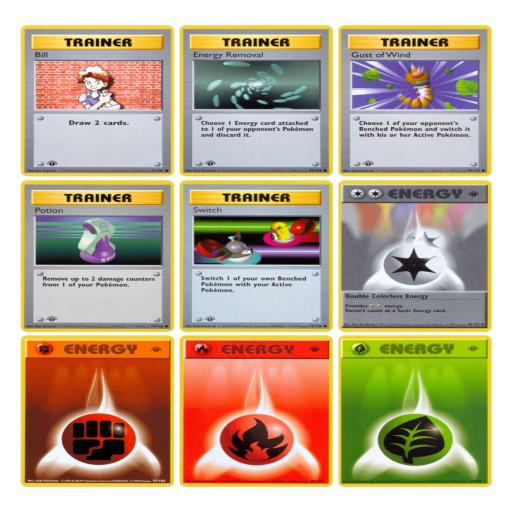card: (178, 334, 336, 489), (181, 23, 336, 177), (20, 24, 175, 178), (20, 180, 173, 334), (337, 335, 492, 487), (21, 335, 174, 488), (338, 180, 492, 332), (181, 179, 332, 334), (339, 25, 491, 177)
